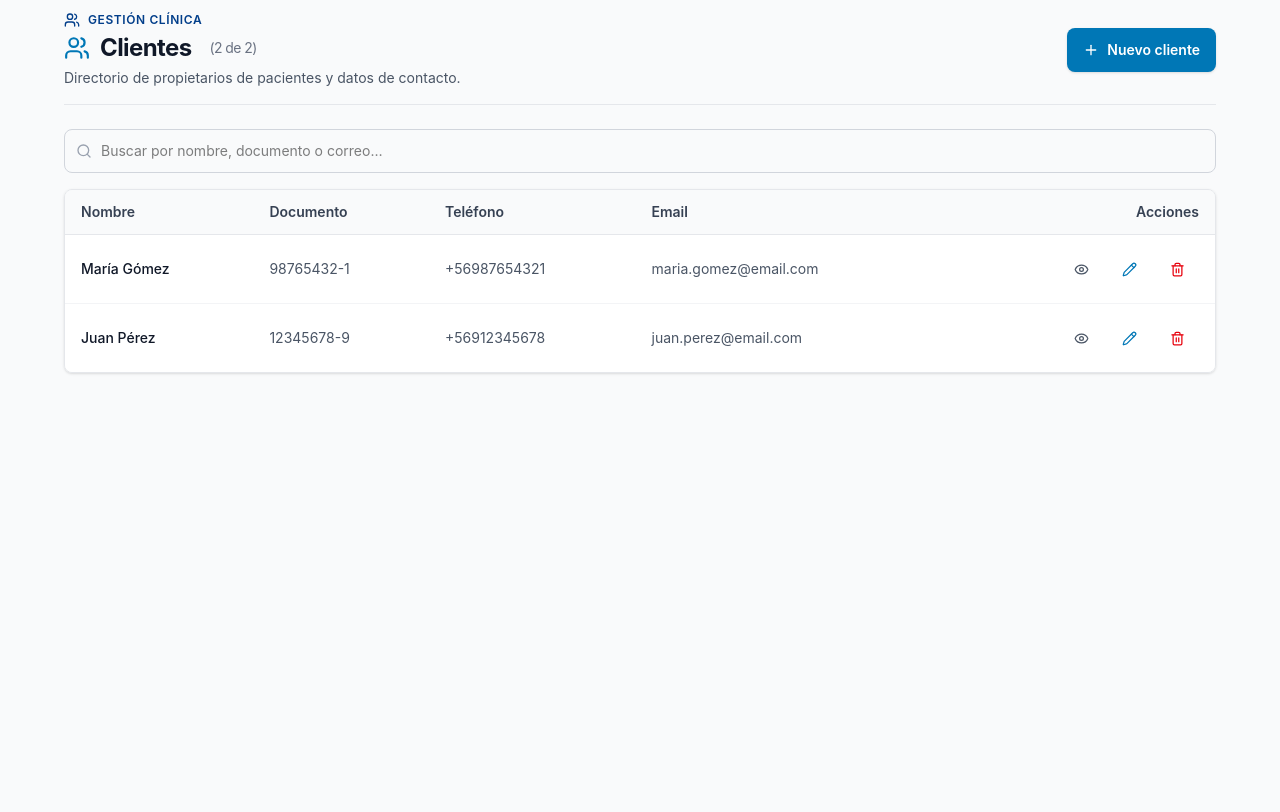
Scenario: Clientes CRUD › permite abrir el formulario de nuevo cliente al presionar el botón
Step 1. Click the button "Nuevo cliente" → {"x": 1142, "y": 50}, box x1=1067 y1=28 x2=1216 y2=72
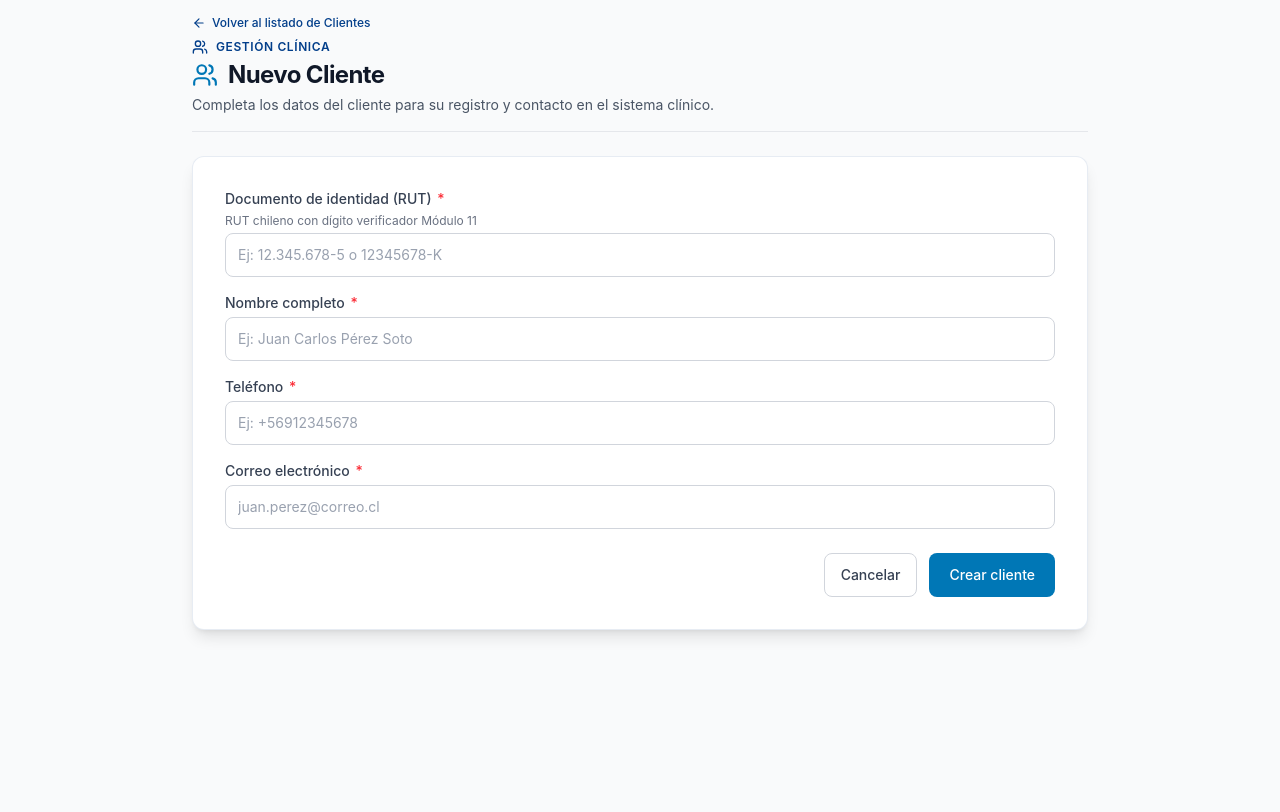
expect the heading "Nuevo Cliente" is shown: met, box x1=192 y1=60 x2=384 y2=89
expect the field labelled "Documento de identidad (RUT) *" is shown: met, box x1=225 y1=233 x2=1055 y2=277
expect the field labelled "Nombre completo *" is shown: met, box x1=225 y1=317 x2=1055 y2=361
